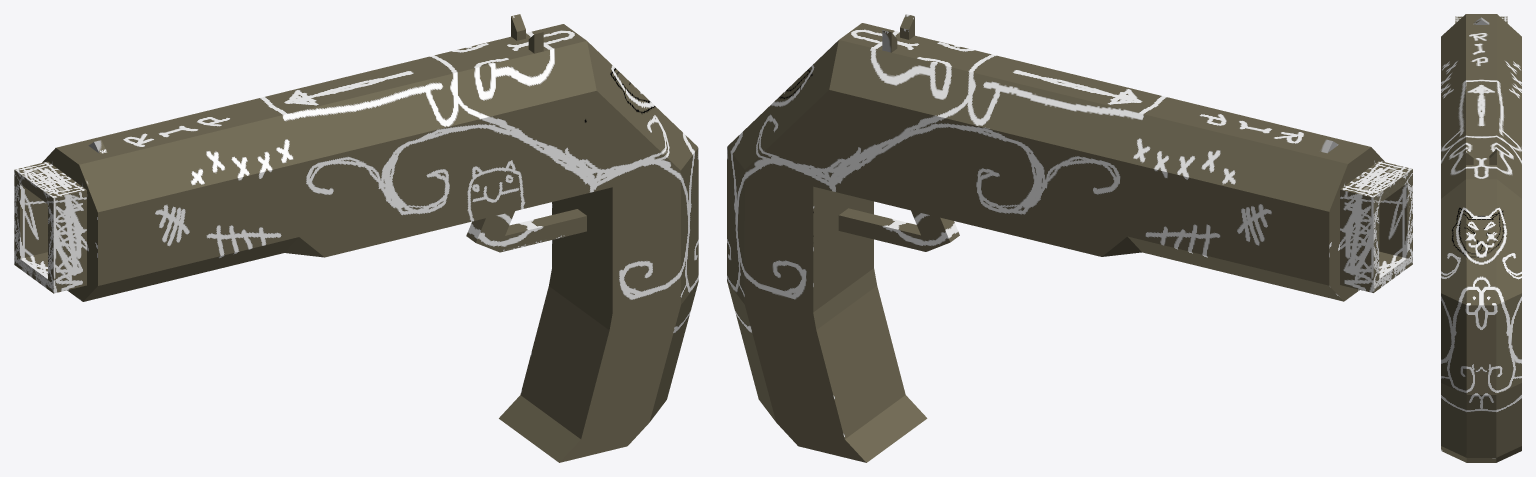
The model's file is gun.glb.
3 views of the same model, side by side, from view 1: azimuth 30°, elevation 25°; view 2: azimuth 150°, elevation 25°; view 3: azimuth 270°, elevation 25° (orthographic). The views are drawn at different scales.
Visible parts, largest first — view 1: Cube; view 2: Cube; view 3: Cube.
Part boxes in pixels (<box>): Cube: <box>14,14,698,462</box>; Cube: <box>727,14,1412,462</box>; Cube: <box>1441,14,1521,462</box>.
Bounding box in the file's own units: 12.42 × 7.58 × 2.
Materials: 1 (1 with a texture image).
